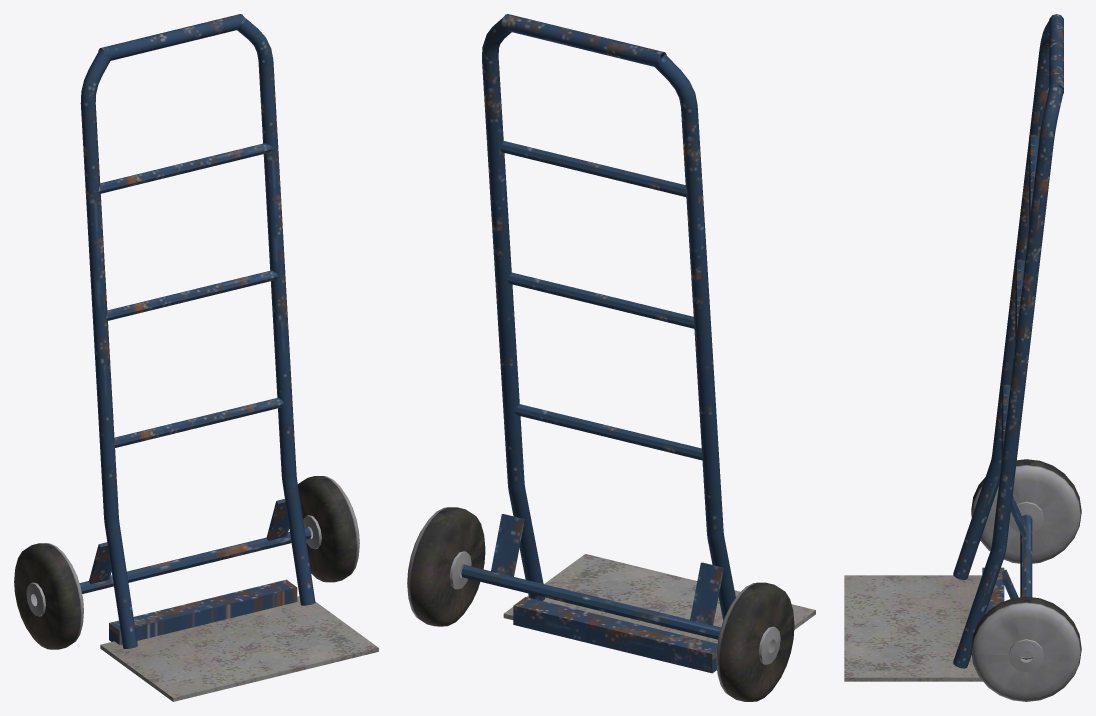
File: blue-hand-trolley-v1-lod0.glb
3 renders of one model, left to right at view 1: azimuth 30°, elevation 25°; view 2: azimuth 150°, elevation 25°; view 3: azimuth 270°, elevation 25°, orthographic. The views are drawn at different scales.
Parts seen in each view (by area): view 1: hand_trolley, trolley_wheel_R_mesh, trolley_wheel_L_mesh; view 2: hand_trolley, trolley_wheel_R_mesh, trolley_wheel_L_mesh; view 3: hand_trolley, trolley_wheel_L_mesh, trolley_wheel_R_mesh.
Boxes of the visible parts, x1,y1,x2,y2 form: hand_trolley: (79,14,378,701); trolley_wheel_R_mesh: (14,543,83,649); trolley_wheel_L_mesh: (298,476,359,582); hand_trolley: (461,14,815,673); trolley_wheel_R_mesh: (716,582,794,701); trolley_wheel_L_mesh: (407,507,485,626); hand_trolley: (844,14,1063,681); trolley_wheel_L_mesh: (971,596,1081,701); trolley_wheel_R_mesh: (971,459,1081,563).
Size of the model in its own units: 0.654 by 1.16 by 0.43.
1 material, 1 textured.
